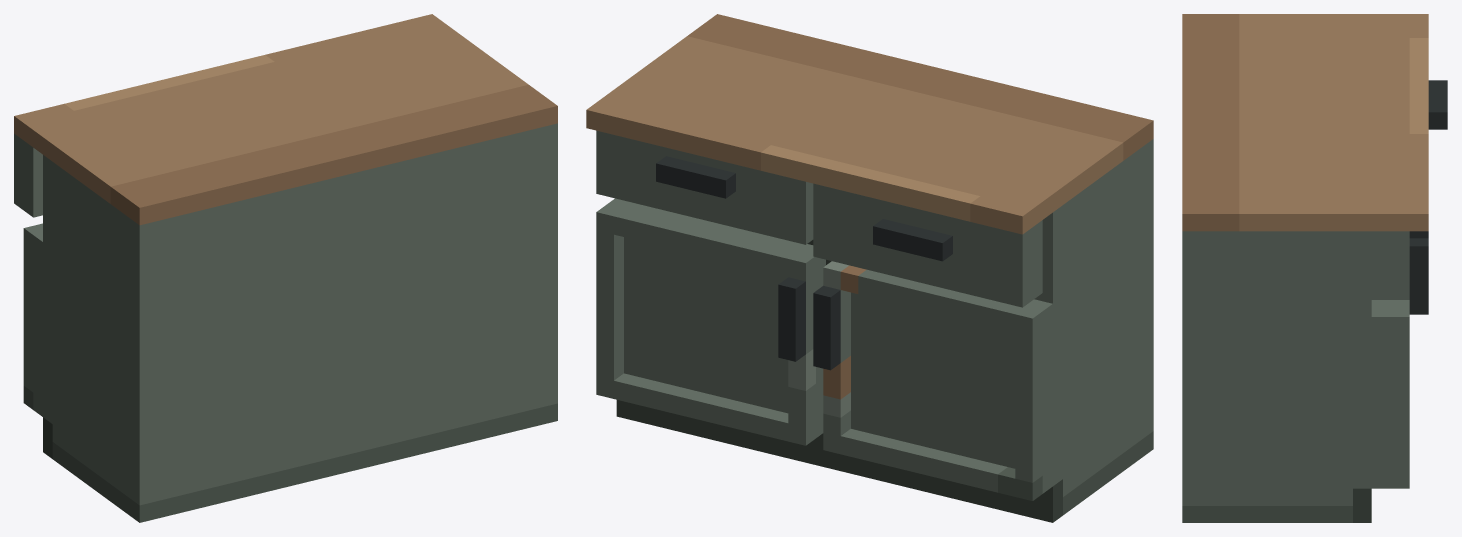
Rendered from Claude_kitchen_counter.glb.
The picture shows the model from 3 angles, left to right: view 1: azimuth 30°, elevation 25°; view 2: azimuth 150°, elevation 25°; view 3: azimuth 270°, elevation 25°; orthographic projection. The views are drawn at different scales.
Visible parts, largest first — view 1: Claude_kitchen_counter; view 2: Claude_kitchen_counter; view 3: Claude_kitchen_counter.
Boxes of the visible parts, bbox=[...] form: Claude_kitchen_counter: bbox=[14, 14, 557, 522]; Claude_kitchen_counter: bbox=[586, 14, 1153, 522]; Claude_kitchen_counter: bbox=[1182, 14, 1447, 522].
Bounding box in the file's own units: 1.25 × 0.9 × 0.7.
